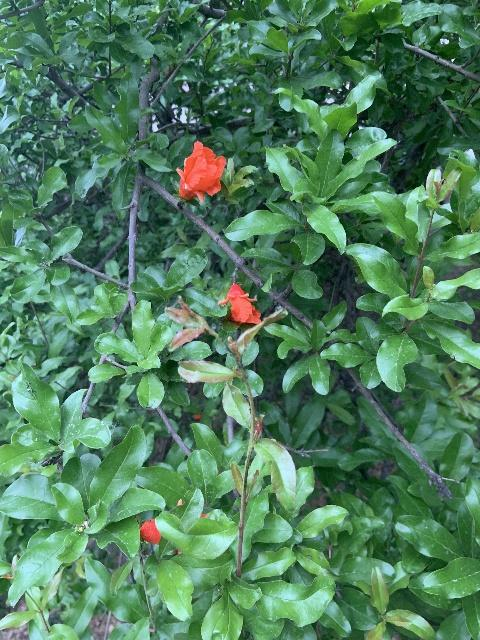flower: (140, 499, 207, 554), (175, 140, 226, 202), (217, 283, 260, 324)
